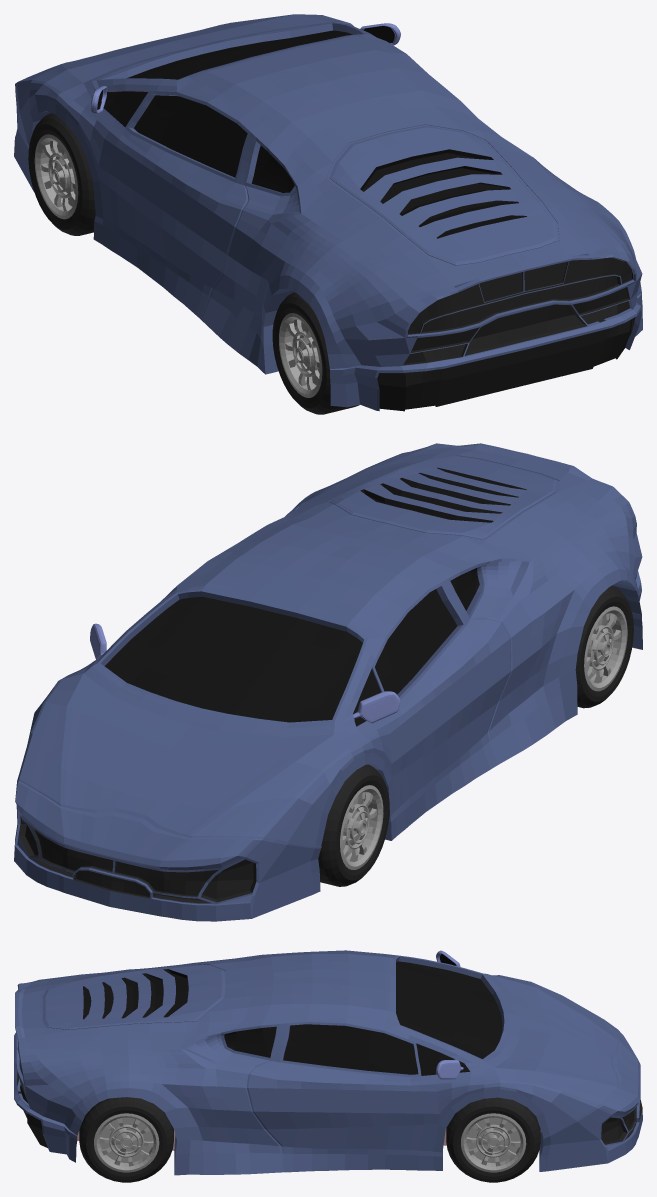
Rendered from Massalini.fbx.
The picture shows the model from 3 angles, top to bottom: view 1: azimuth 30°, elevation 25°; view 2: azimuth 150°, elevation 25°; view 3: azimuth 270°, elevation 25°; orthographic projection. The views are drawn at different scales.
Parts seen in each view (by area): view 1: Plane.002, Circle.025, Circle.022; view 2: Plane.002, Circle.025, Circle.022, Cube.022; view 3: Plane.002, Circle.009, Circle.026, Cube.021.
Part boxes in pixels (x1=…): Plane.002: x1=14, y1=14, x2=642, y2=411; Circle.025: x1=28, y1=113, x2=95, y2=235; Circle.022: x1=272, y1=292, x2=359, y2=414; Plane.002: x1=14, y1=443, x2=642, y2=921; Circle.025: x1=318, y1=764, x2=389, y2=886; Circle.022: x1=575, y1=585, x2=633, y2=708; Cube.022: x1=353, y1=691, x2=400, y2=723; Plane.002: x1=14, y1=950, x2=642, y2=1175; Circle.009: x1=79, y1=1097, x2=173, y2=1182; Circle.026: x1=446, y1=1097, x2=540, y2=1182; Cube.021: x1=436, y1=1059, x2=463, y2=1079.
Size of the model in its own units: 158 by 98.14 by 365.
4 materials, 2 textured.
